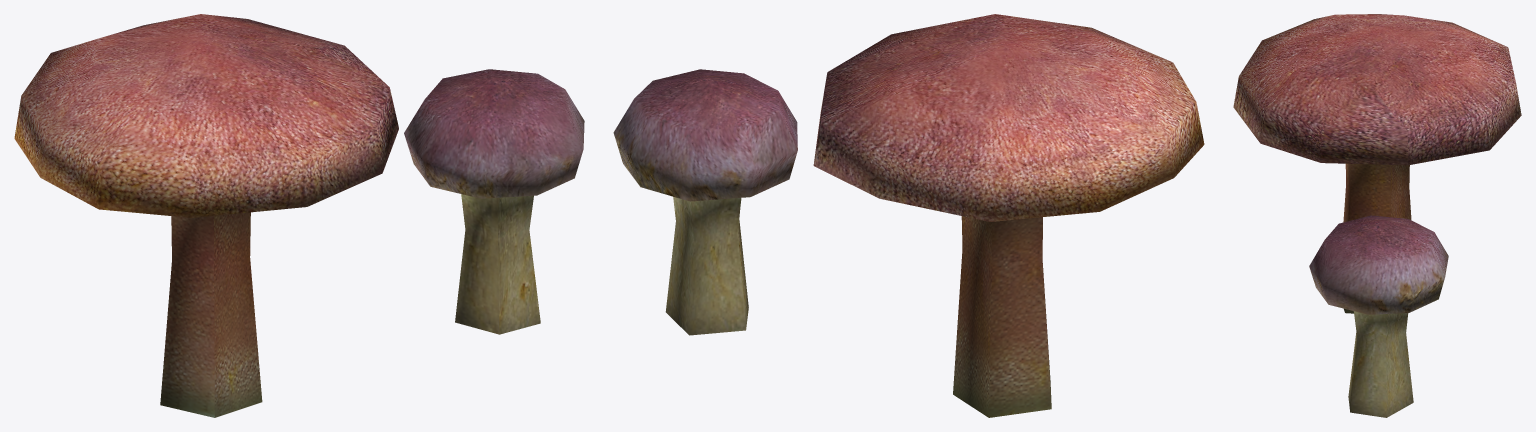
Rendered from Tricholomopsis rutilans_m.FBX.
3 views of the same model, side by side, from view 1: azimuth 30°, elevation 25°; view 2: azimuth 150°, elevation 25°; view 3: azimuth 270°, elevation 25° (orthographic). The views are drawn at different scales.
Visible parts, largest first — view 1: Tricholomopsis rutilans, Tricholomopsis rutilans2; view 2: Tricholomopsis rutilans, Tricholomopsis rutilans2; view 3: Tricholomopsis rutilans, Tricholomopsis rutilans2.
Boxes of the visible parts, bbox=[...] form: Tricholomopsis rutilans: bbox=[14, 14, 398, 417]; Tricholomopsis rutilans2: bbox=[404, 69, 584, 334]; Tricholomopsis rutilans: bbox=[813, 14, 1204, 417]; Tricholomopsis rutilans2: bbox=[613, 69, 797, 335]; Tricholomopsis rutilans: bbox=[1233, 14, 1521, 313]; Tricholomopsis rutilans2: bbox=[1309, 215, 1448, 417].
Size of the model in its own units: 63.16 by 39.45 by 38.42.
